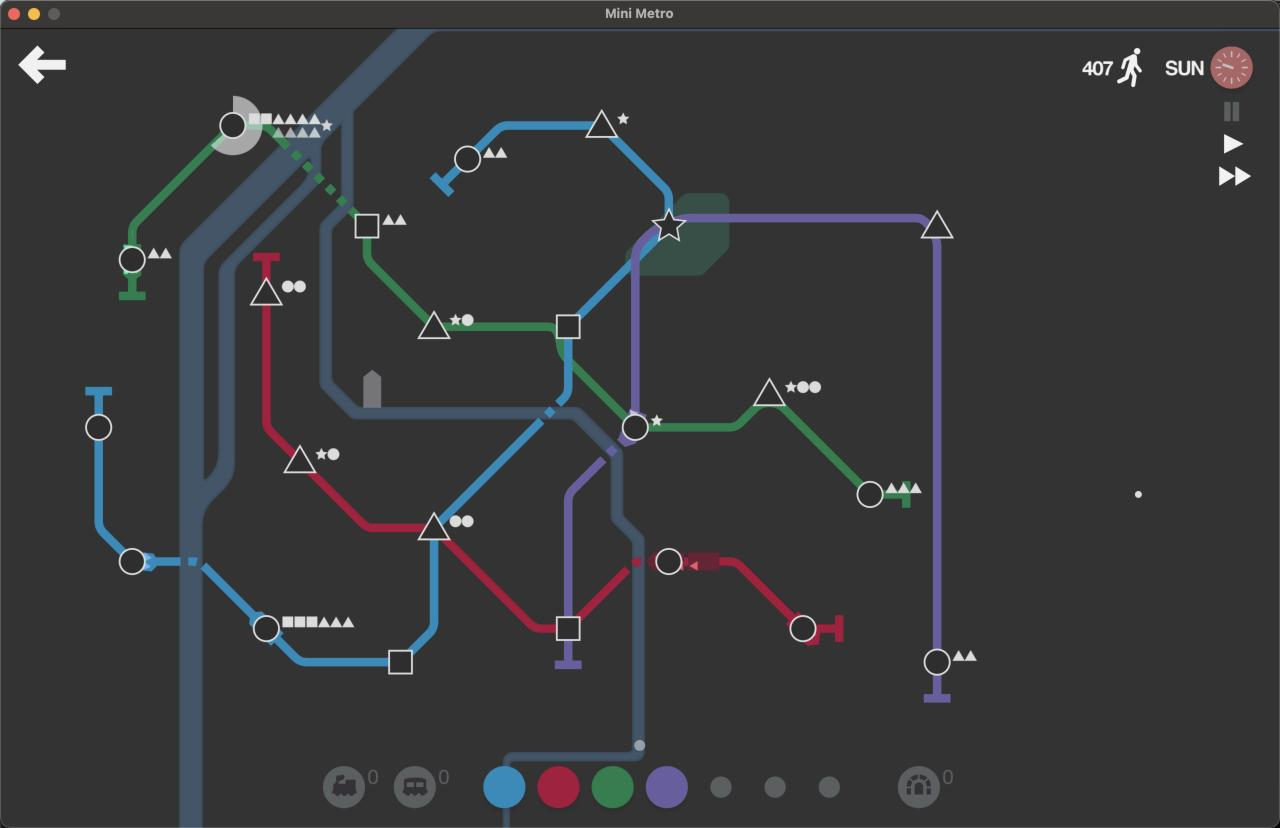CIRCLE: (620, 411, 650, 443), (252, 613, 281, 644), (789, 614, 818, 644), (118, 244, 146, 275), (118, 547, 147, 576), (654, 547, 683, 576), (856, 479, 884, 509), (219, 111, 247, 140), (923, 648, 951, 677), (454, 144, 481, 173), (85, 414, 112, 441)
SQUARE: (555, 615, 581, 642), (555, 313, 582, 339), (387, 648, 413, 675), (353, 213, 379, 239)
STAR: (651, 208, 686, 242)
TRIANGLE: (416, 510, 452, 542), (416, 309, 451, 340), (584, 108, 618, 139), (283, 444, 317, 475), (249, 276, 283, 307), (920, 209, 955, 239), (752, 377, 786, 407)
